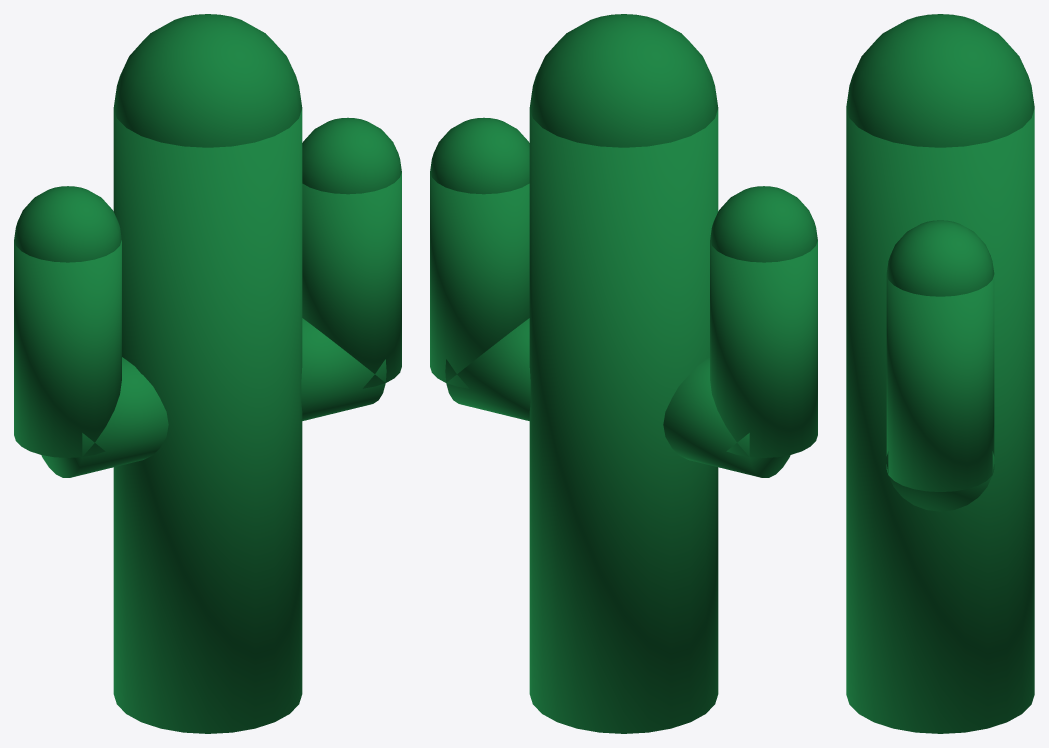
Rendered from cactus.glb.
3 views of the same model, side by side, from view 1: azimuth 30°, elevation 25°; view 2: azimuth 150°, elevation 25°; view 3: azimuth 270°, elevation 25° (orthographic).
Parts seen in each view (by area): view 1: Trunk, Arm, Top, Arm.001, ArmT, ArmT.001, ArmB, ArmB.001; view 2: Trunk, Arm, Top, Arm.001, ArmT, ArmT.001, ArmB, ArmB.001; view 3: Trunk, Arm.001, Top, ArmT.001, ArmB.001.
Part boxes in pixels (x1=…): Trunk: x1=113, y1=108, x2=302, y2=733; Arm: x1=14, y1=240, x2=121, y2=457; Top: x1=113, y1=14, x2=302, y2=147; Arm.001: x1=302, y1=172, x2=401, y2=388; ArmT: x1=14, y1=186, x2=121, y2=262; ArmT.001: x1=302, y1=117, x2=401, y2=194; ArmB: x1=41, y1=357, x2=168, y2=477; ArmB.001: x1=301, y1=318, x2=386, y2=420; Trunk: x1=529, y1=108, x2=718, y2=733; Arm: x1=710, y1=240, x2=817, y2=457; Top: x1=529, y1=14, x2=718, y2=147; Arm.001: x1=430, y1=172, x2=529, y2=388; ArmT: x1=710, y1=186, x2=817, y2=262; ArmT.001: x1=430, y1=117, x2=529, y2=194; ArmB: x1=663, y1=357, x2=790, y2=477; ArmB.001: x1=445, y1=318, x2=530, y2=420; Trunk: x1=846, y1=109, x2=1034, y2=733; Arm.001: x1=886, y1=275, x2=994, y2=491; Top: x1=846, y1=14, x2=1034, y2=147; ArmT.001: x1=886, y1=220, x2=994, y2=296; ArmB.001: x1=886, y1=451, x2=994, y2=511.
Size of the model in its own units: 1.6 by 2.75 by 0.7.
